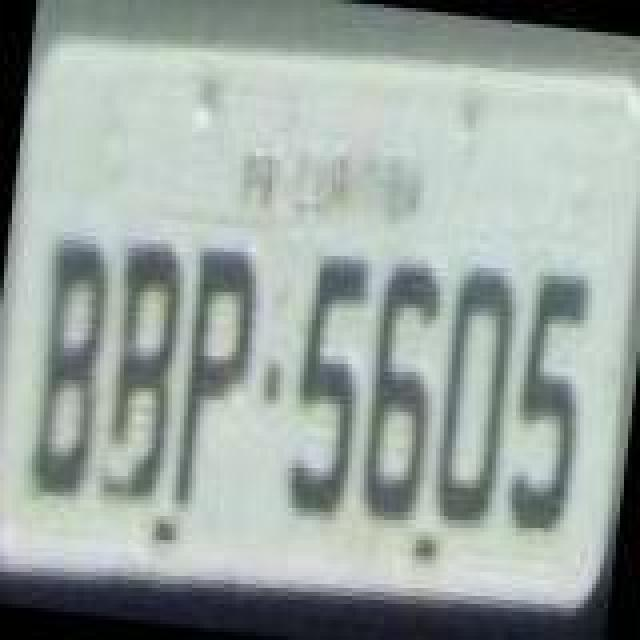5: (280, 246, 376, 522), (506, 270, 598, 538)
6: (352, 256, 448, 528)
B: (96, 234, 192, 510), (24, 232, 120, 504)
O: (424, 264, 520, 528)
P: (170, 242, 262, 510)
